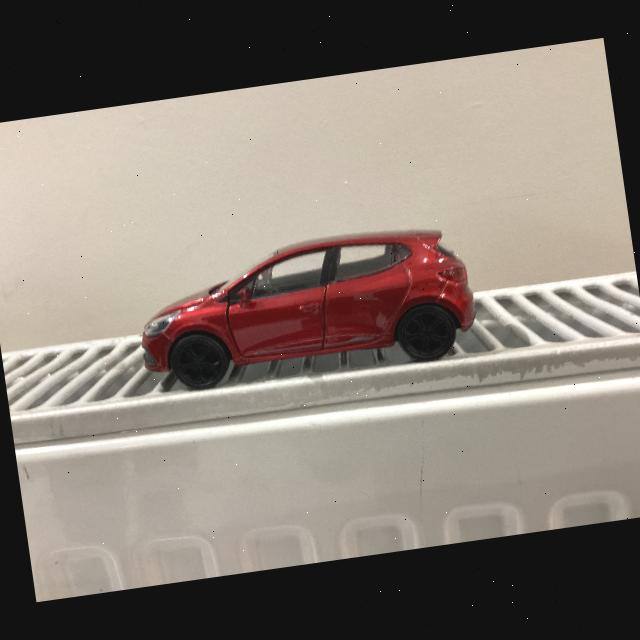Dogru_Jant: (403, 309, 453, 357), (174, 339, 221, 386)
